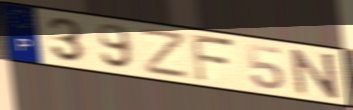3: (47, 17, 85, 64)
5: (244, 42, 286, 91)
9: (96, 23, 137, 71)
F: (189, 32, 238, 85)
N: (289, 47, 342, 101)
Z: (139, 28, 191, 80)
